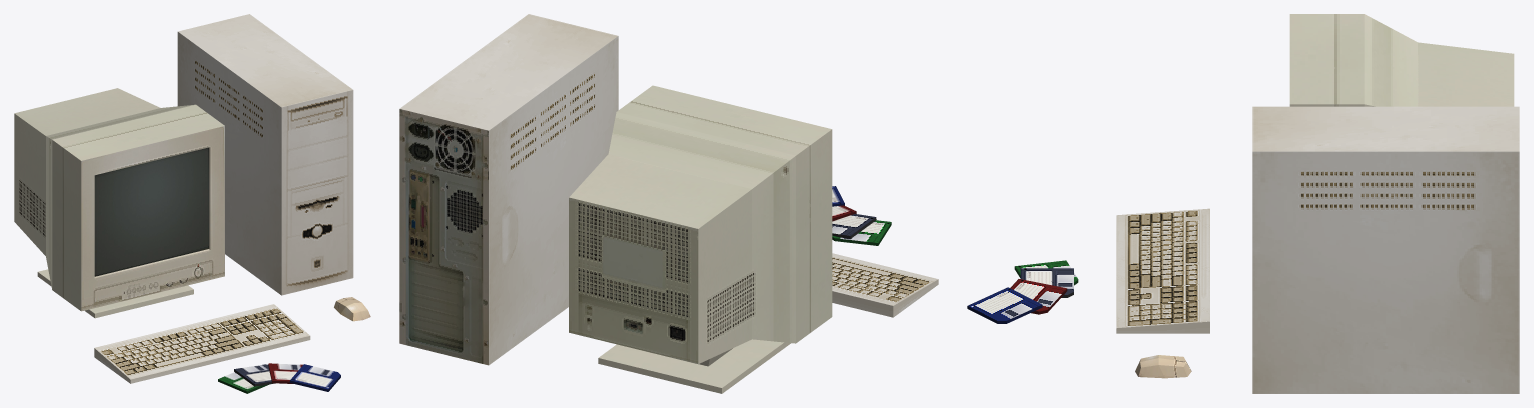
Rendered from psx_retro_computer.glb.
The picture shows the model from 3 angles, left to right: view 1: azimuth 30°, elevation 25°; view 2: azimuth 150°, elevation 25°; view 3: azimuth 270°, elevation 25°; orthographic projection. The views are drawn at different scales.
Parts seen in each view (by area): view 1: RetroMonitor, RetroComputer, RetroKeyboard, FloppyDisk_Blue, RetroMouse, FloppyDisk_Black, FloppyDisk_Red, FloppyDisk_Green; view 2: RetroMonitor, RetroComputer, RetroKeyboard, FloppyDisk_Black, FloppyDisk_Green; view 3: RetroComputer, RetroMonitor, RetroKeyboard, FloppyDisk_Blue, RetroMouse, FloppyDisk_Red, FloppyDisk_Black.
Part boxes in pixels (box(x1,y1,x2,y2)): RetroMonitor: box(14, 88, 224, 318); RetroComputer: box(177, 14, 353, 295); RetroKeyboard: box(94, 304, 310, 383); FloppyDisk_Blue: box(289, 364, 340, 391); RetroMouse: box(334, 297, 370, 321); FloppyDisk_Black: box(234, 364, 275, 386); FloppyDisk_Red: box(268, 363, 302, 383); FloppyDisk_Green: box(218, 372, 269, 393); RetroMonitor: box(569, 85, 832, 393); RetroComputer: box(399, 14, 618, 365); RetroKeyboard: box(832, 253, 938, 317); FloppyDisk_Black: box(832, 214, 876, 238); FloppyDisk_Green: box(832, 220, 891, 245); RetroComputer: box(1252, 106, 1519, 393); RetroMonitor: box(1289, 14, 1514, 106); RetroKeyboard: box(1116, 208, 1209, 333); FloppyDisk_Blue: box(967, 287, 1042, 323); RetroMouse: box(1135, 355, 1191, 378); FloppyDisk_Red: box(1010, 279, 1067, 314); FloppyDisk_Black: box(1020, 268, 1073, 297).
Size of the model in its own units: 0.92 by 0.6002 by 1.24.
Materials: 4 (4 with a texture image).
